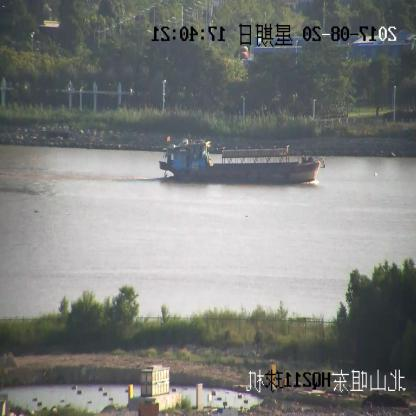Fishing Boat: (159, 134, 325, 183)
